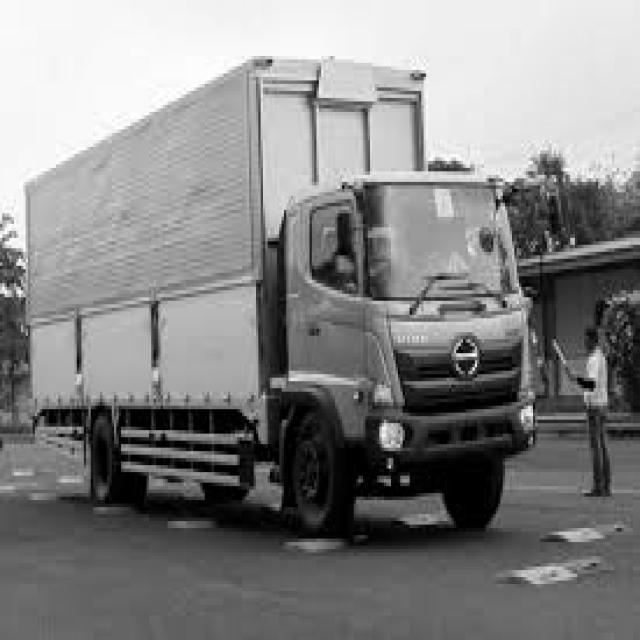truck: (250, 141, 571, 551)
